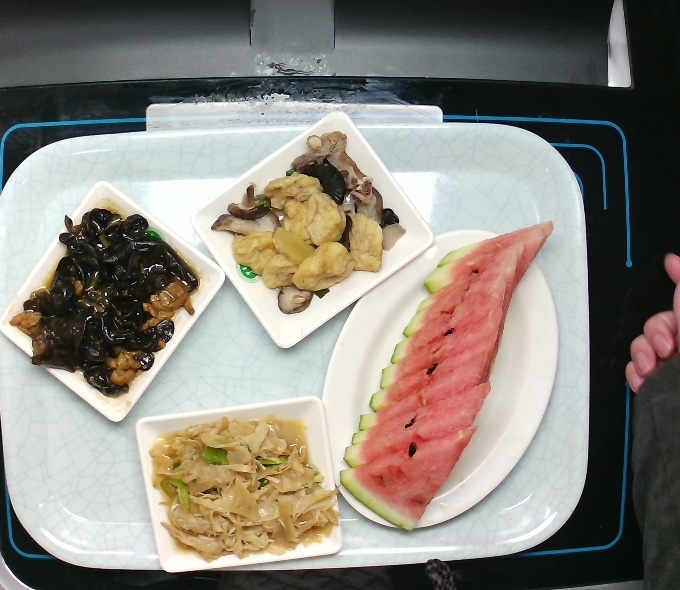wcq-LuSun: (150, 416, 335, 560)
wcq-MuErChaoRou: (40, 206, 187, 389)
wcq-XiGua: (335, 220, 561, 534)
wcq-YouPaoPaiGu: (208, 125, 422, 315)
